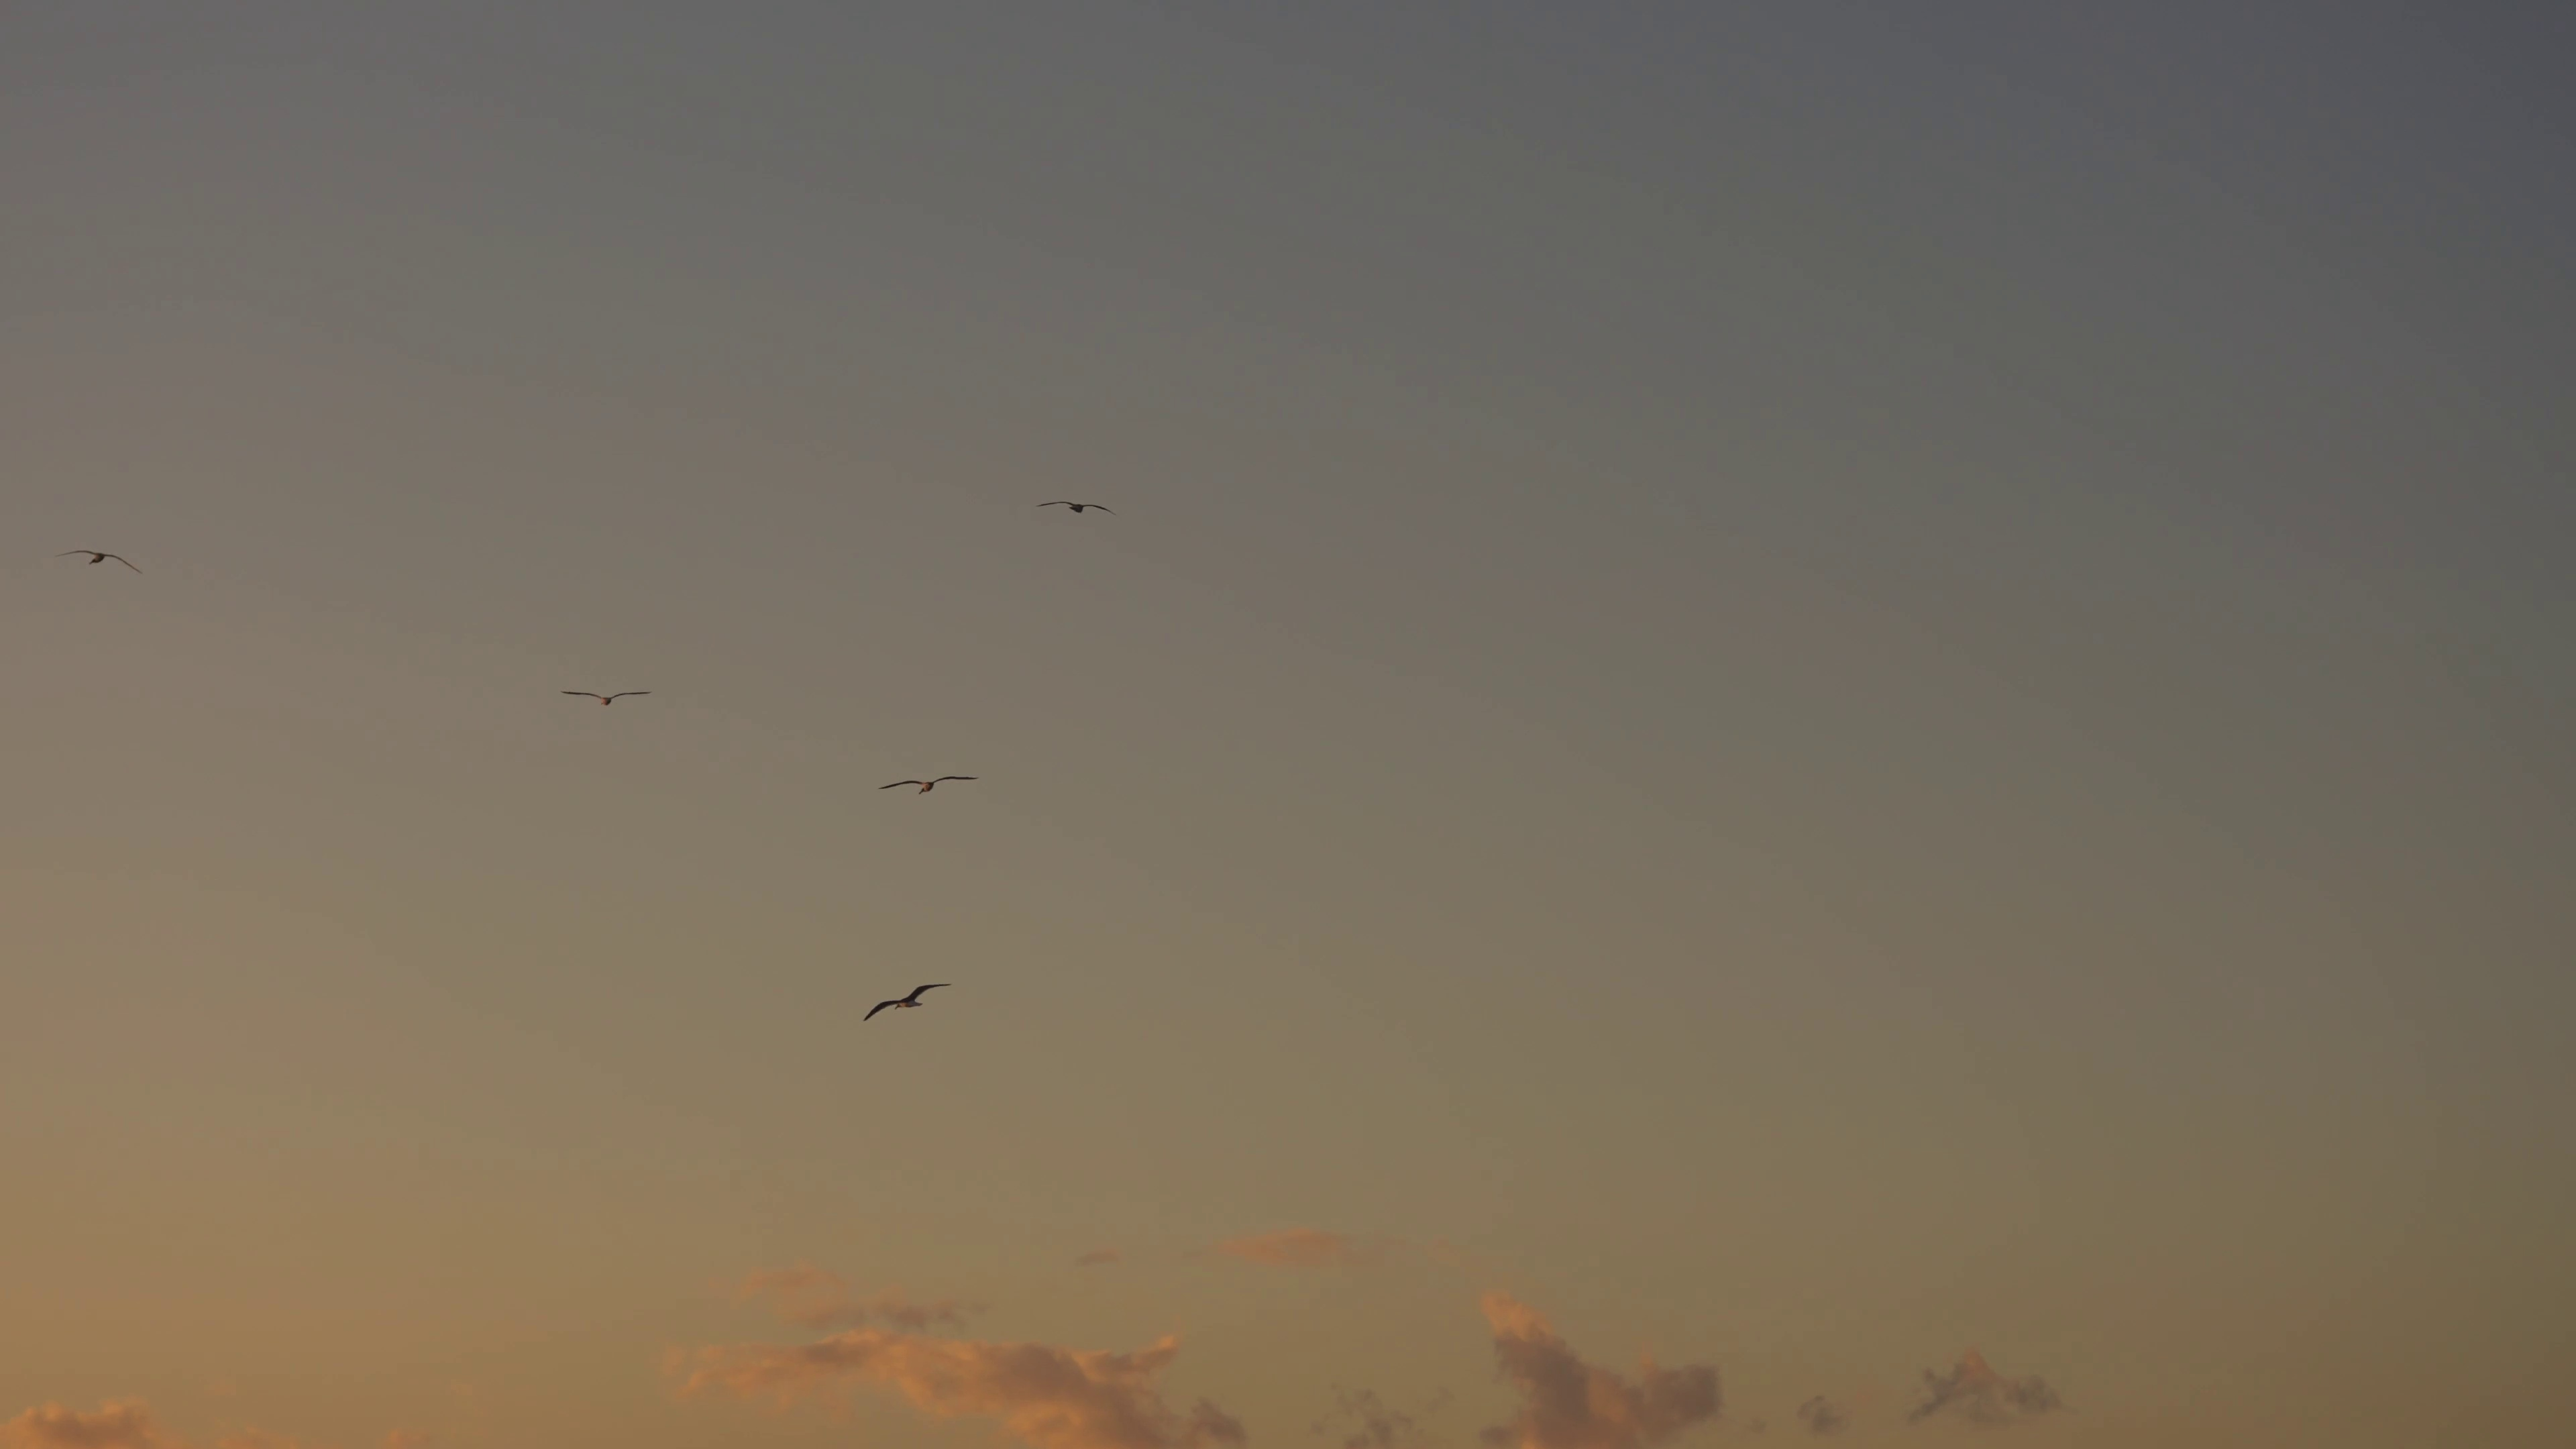bird: (862, 984, 950, 1021), (62, 548, 143, 575), (878, 775, 977, 796), (561, 686, 649, 708), (1039, 499, 1116, 518)
